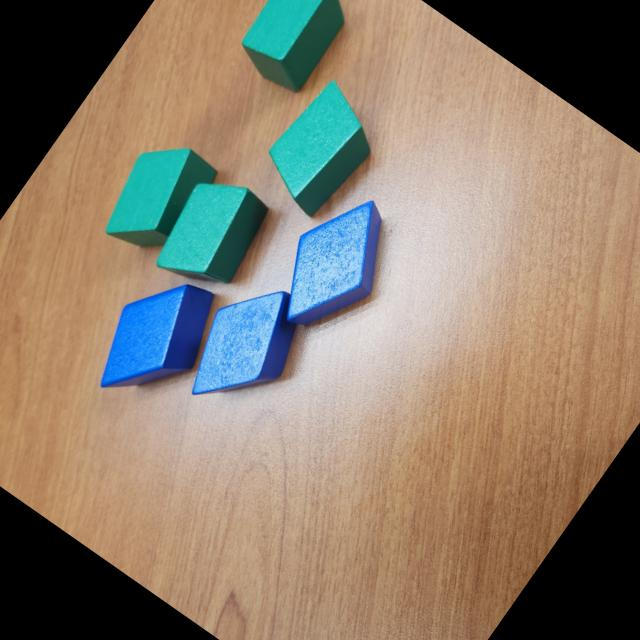blue: (254, 178, 414, 354), (78, 256, 234, 424), (168, 264, 322, 431)
green: (250, 71, 394, 225), (144, 161, 282, 306), (89, 125, 222, 268), (227, 0, 362, 100)
